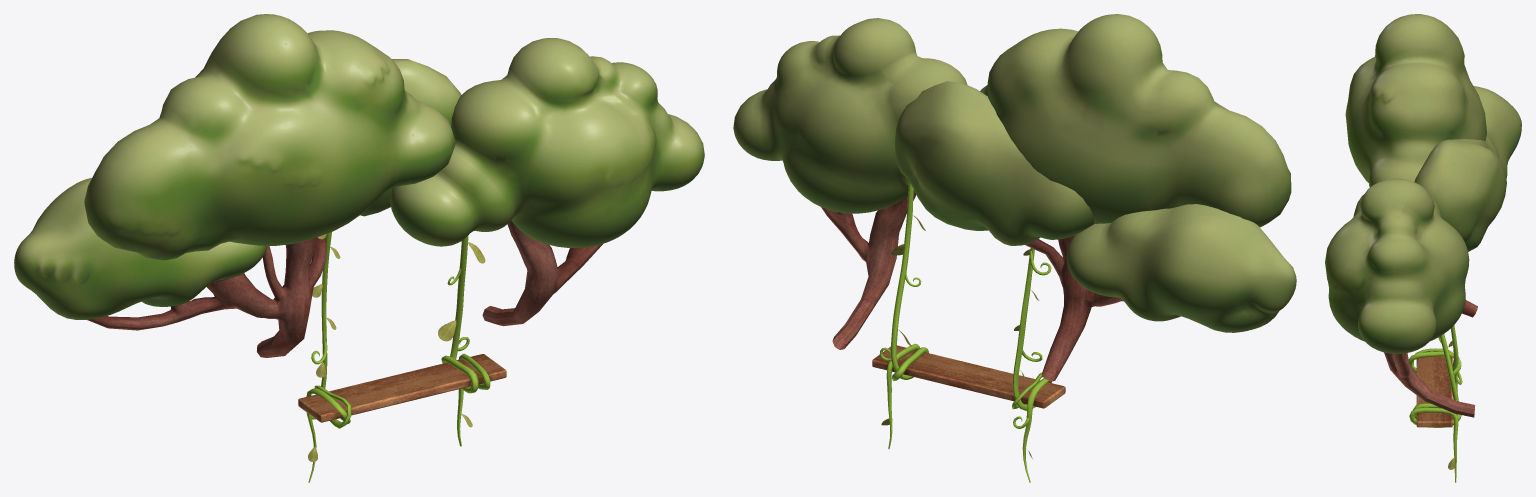
The model's file is QiuQian.fbx.
The picture shows the model from 3 angles, left to right: view 1: azimuth 30°, elevation 25°; view 2: azimuth 150°, elevation 25°; view 3: azimuth 270°, elevation 25°; orthographic projection. The views are drawn at different scales.
Visible parts, largest first — view 1: ShuYe, ShuGan, QiuQian; view 2: ShuYe, QiuQian, ShuGan; view 3: ShuYe, QiuQian, ShuGan.
Part boxes in pixels (left/top/right/bottom): ShuYe: left=14, top=14, right=704, bottom=319; ShuGan: left=87, top=221, right=602, bottom=357; QiuQian: left=298, top=232, right=506, bottom=482; ShuYe: left=733, top=14, right=1296, bottom=332; QiuQian: left=872, top=181, right=1065, bottom=482; ShuGan: left=821, top=190, right=1123, bottom=381; ShuYe: left=1325, top=14, right=1521, bottom=353; QiuQian: left=1408, top=325, right=1462, bottom=482; ShuGan: left=1384, top=300, right=1477, bottom=417.
Bounding box in the file's own units: 460 × 343 × 160.
3 materials, 3 textured.
